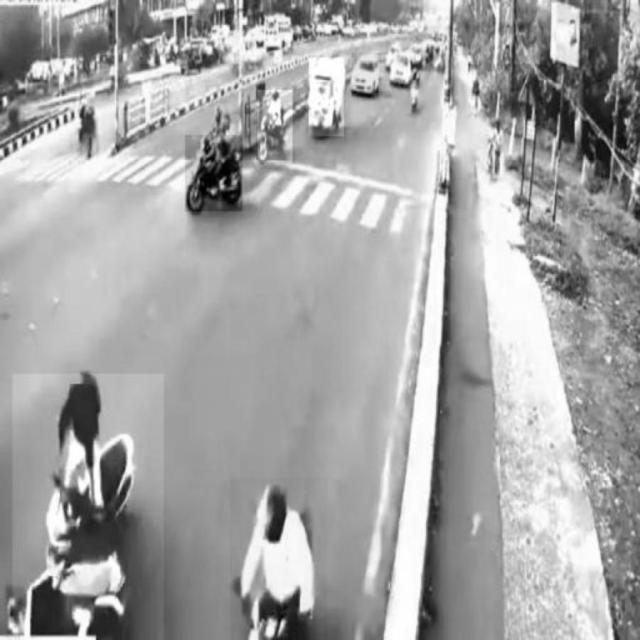accident: (13, 374, 164, 640)
vehicle: (230, 478, 328, 640), (185, 135, 243, 211), (310, 58, 345, 136), (258, 91, 293, 163), (352, 52, 382, 98)
